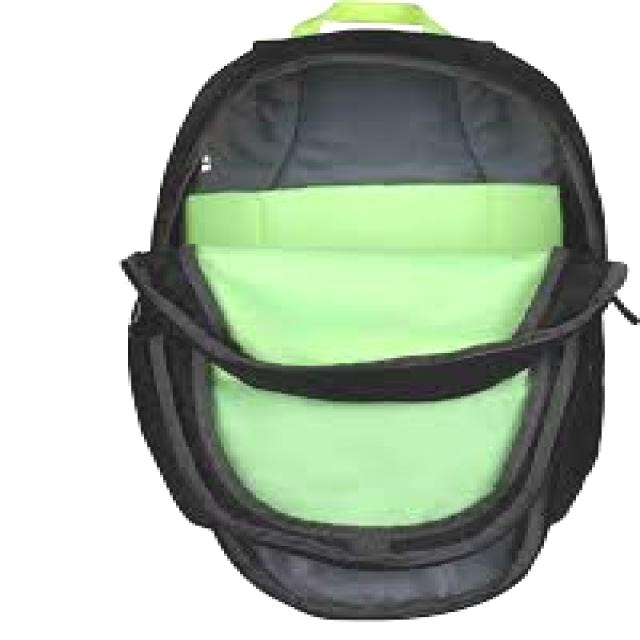backpack: (120, 1, 638, 621)
